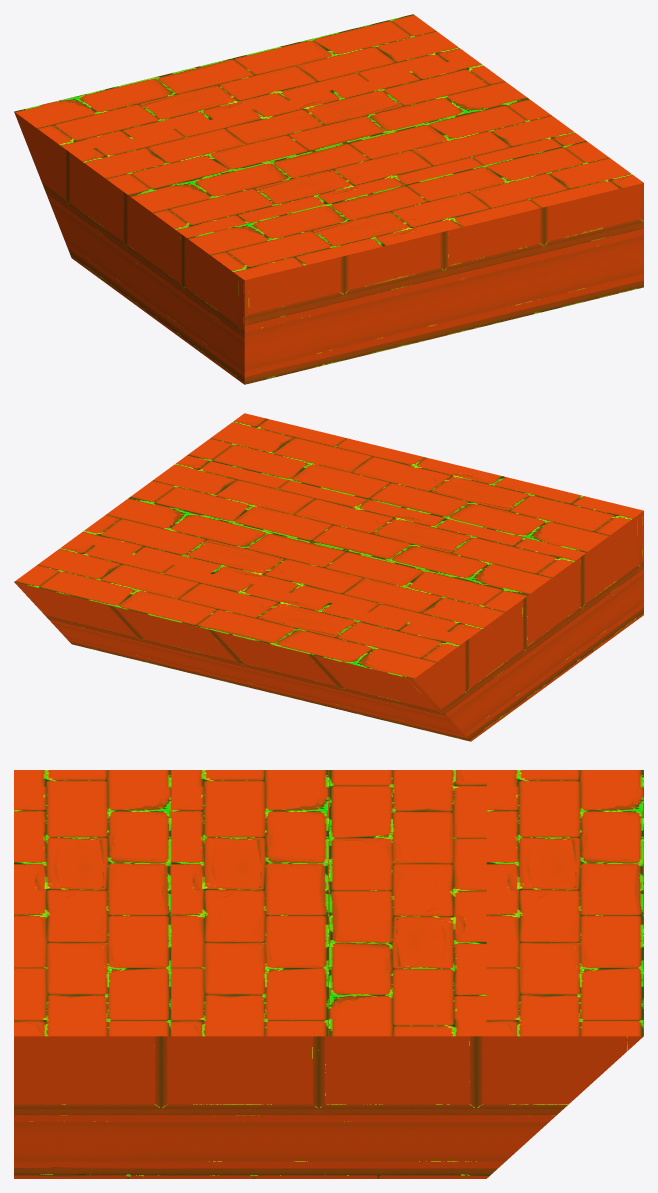
File: Ceiling Block 2.fbx
3 views of the same model, one above another, from view 1: azimuth 30°, elevation 25°; view 2: azimuth 150°, elevation 25°; view 3: azimuth 270°, elevation 25° (orthographic). The views are drawn at different scales.
Visible parts, largest first — view 1: pCube11; view 2: pCube11; view 3: pCube11.
Boxes of the visible parts, x1,y1,x2,y2 form: pCube11: [14, 14, 643, 384]; pCube11: [14, 413, 643, 741]; pCube11: [14, 770, 643, 1178].
Size of the model in its own units: 200 by 50 by 200.
